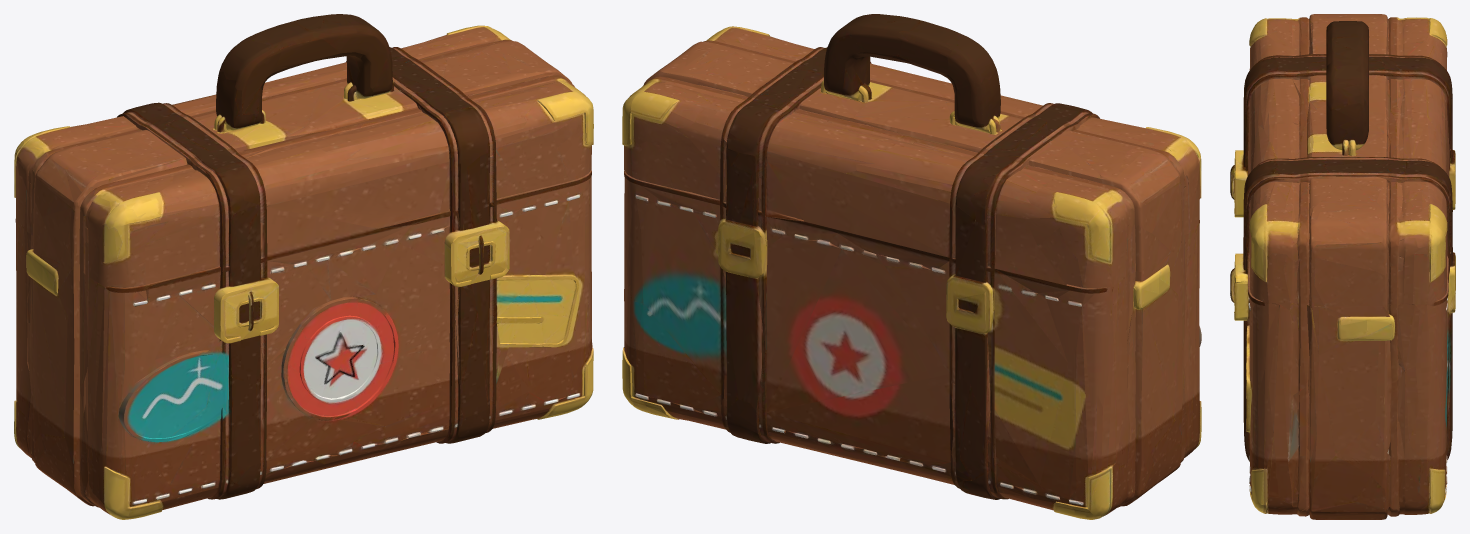
File: maleta.glb
3 views of the same model, side by side, from view 1: azimuth 30°, elevation 25°; view 2: azimuth 150°, elevation 25°; view 3: azimuth 270°, elevation 25° (orthographic). The views are drawn at different scales.
Bounding box in the file's own units: 1.9 × 1.48 × 0.795.
1 material, 1 textured.
